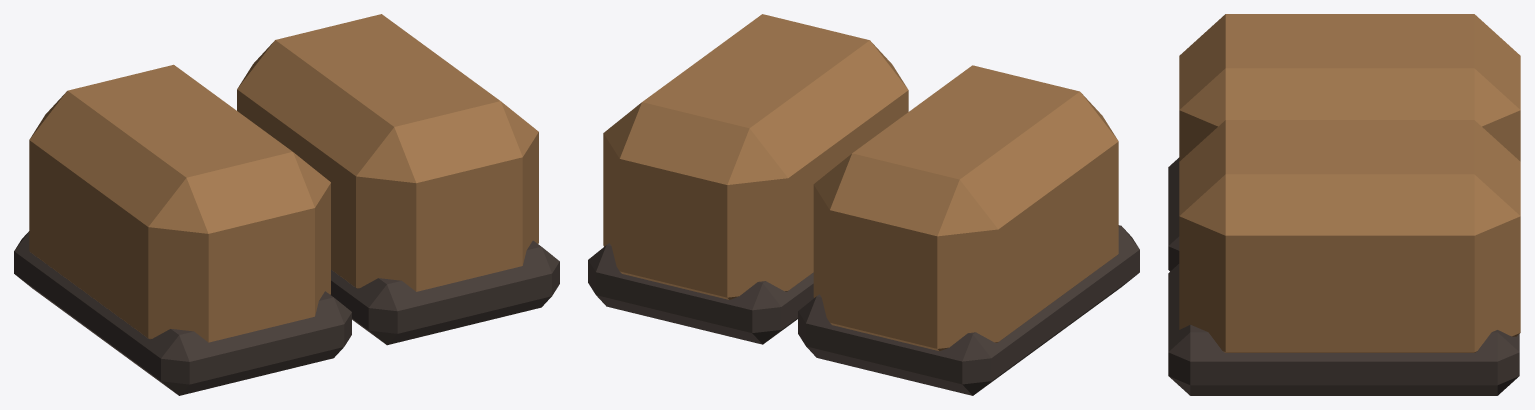
File: trail_boots.glb
3 views of the same model, side by side, from view 1: azimuth 30°, elevation 25°; view 2: azimuth 150°, elevation 25°; view 3: azimuth 270°, elevation 25° (orthographic). The views are drawn at different scales.
Visible parts, largest first — view 1: Gear_Feet_Trail__Boot_L, Gear_Feet_Trail__Boot_R, Gear_Feet_Trail__Sole_L, Gear_Feet_Trail__Sole_R; view 2: Gear_Feet_Trail__Boot_L, Gear_Feet_Trail__Boot_R, Gear_Feet_Trail__Sole_L, Gear_Feet_Trail__Sole_R; view 3: Gear_Feet_Trail__Boot_R, Gear_Feet_Trail__Boot_L, Gear_Feet_Trail__Sole_R, Gear_Feet_Trail__Sole_L.
Part boxes in pixels (bbox=[...]): Gear_Feet_Trail__Boot_L: bbox=[29, 64, 330, 342]; Gear_Feet_Trail__Boot_R: bbox=[237, 14, 538, 291]; Gear_Feet_Trail__Sole_L: bbox=[14, 231, 351, 395]; Gear_Feet_Trail__Sole_R: bbox=[330, 240, 559, 345]; Gear_Feet_Trail__Boot_L: bbox=[813, 65, 1118, 351]; Gear_Feet_Trail__Boot_R: bbox=[603, 14, 908, 299]; Gear_Feet_Trail__Sole_L: bbox=[798, 225, 1139, 395]; Gear_Feet_Trail__Sole_R: bbox=[588, 243, 813, 344]; Gear_Feet_Trail__Boot_R: bbox=[1179, 120, 1520, 352]; Gear_Feet_Trail__Boot_L: bbox=[1179, 14, 1520, 161]; Gear_Feet_Trail__Sole_R: bbox=[1168, 264, 1519, 395]; Gear_Feet_Trail__Sole_L: bbox=[1168, 157, 1179, 271].
Size of the model in its own units: 0.48 by 0.23 by 0.351.
